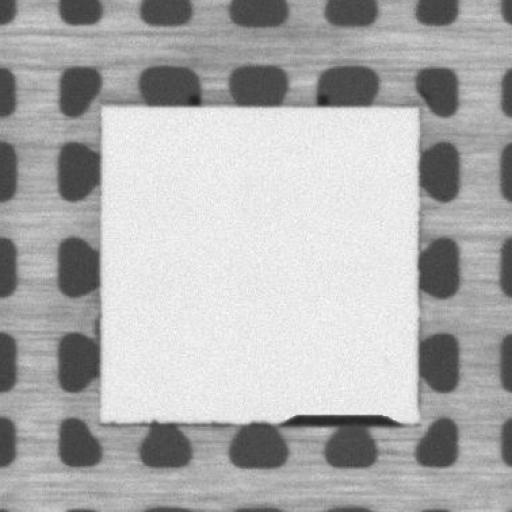DIE_BROKEN: (276, 409, 404, 427)
